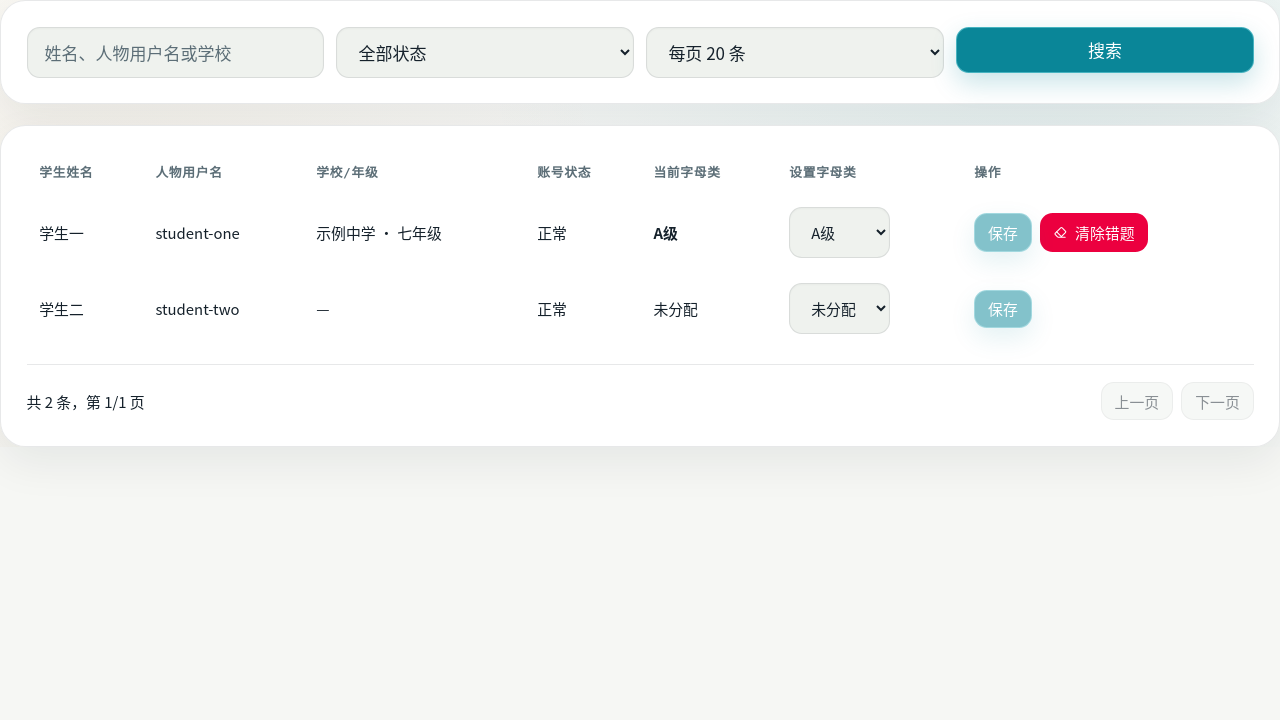
Test: TeacherStudentManager › saves null to unassign a student
The image size is (1280, 720).
Select "未分配" in the dropdown named "设置 学生一 的字母类" at (840, 232), box [789,207,890,258]
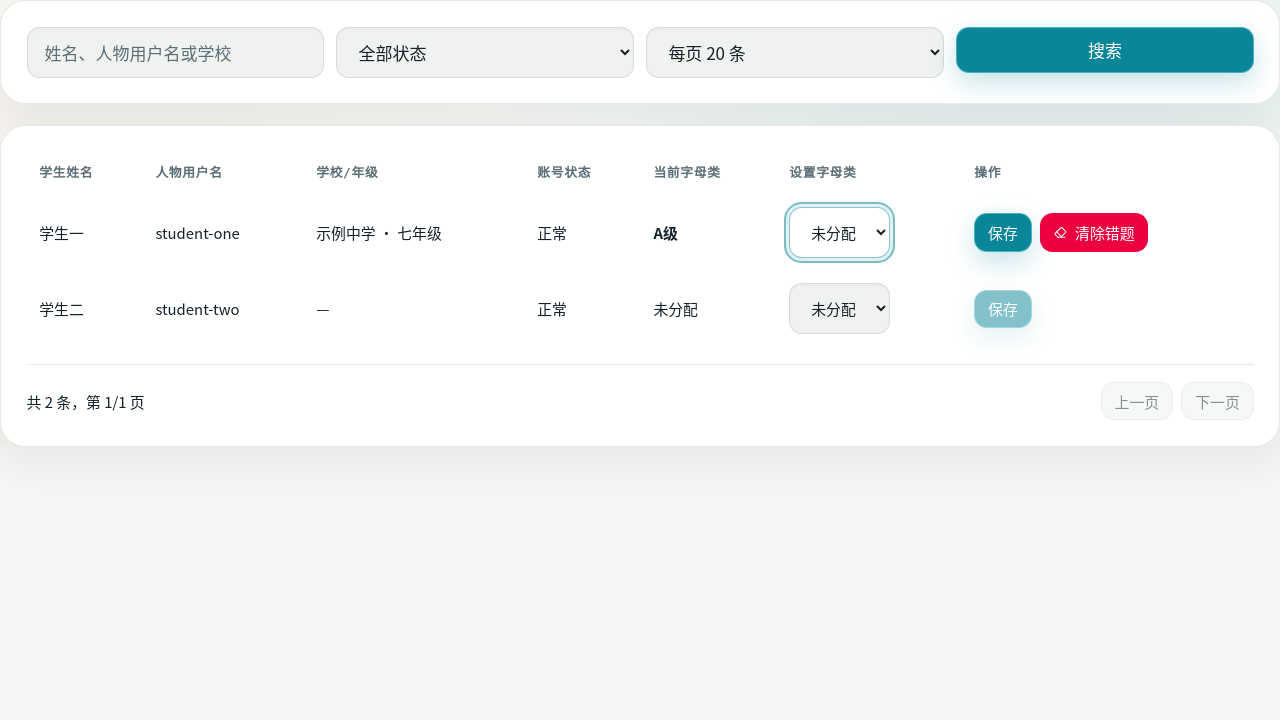
Click the button "保存" in the row of "学生一" at (1003, 233), box [974,213,1032,252]
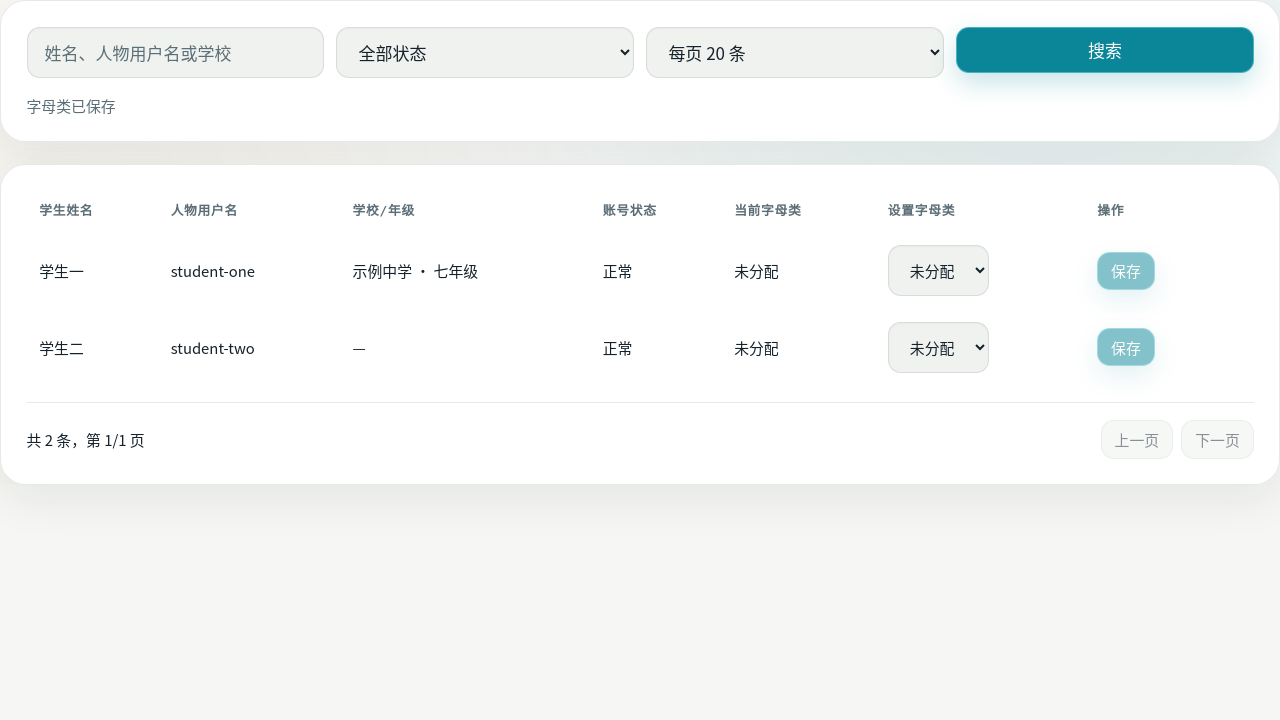
Now the text "字母类已保存" is shown, box [26,94,116,116]
Now the cell "未分配" in the row of "学生一" is shown, box [734,260,779,281]
